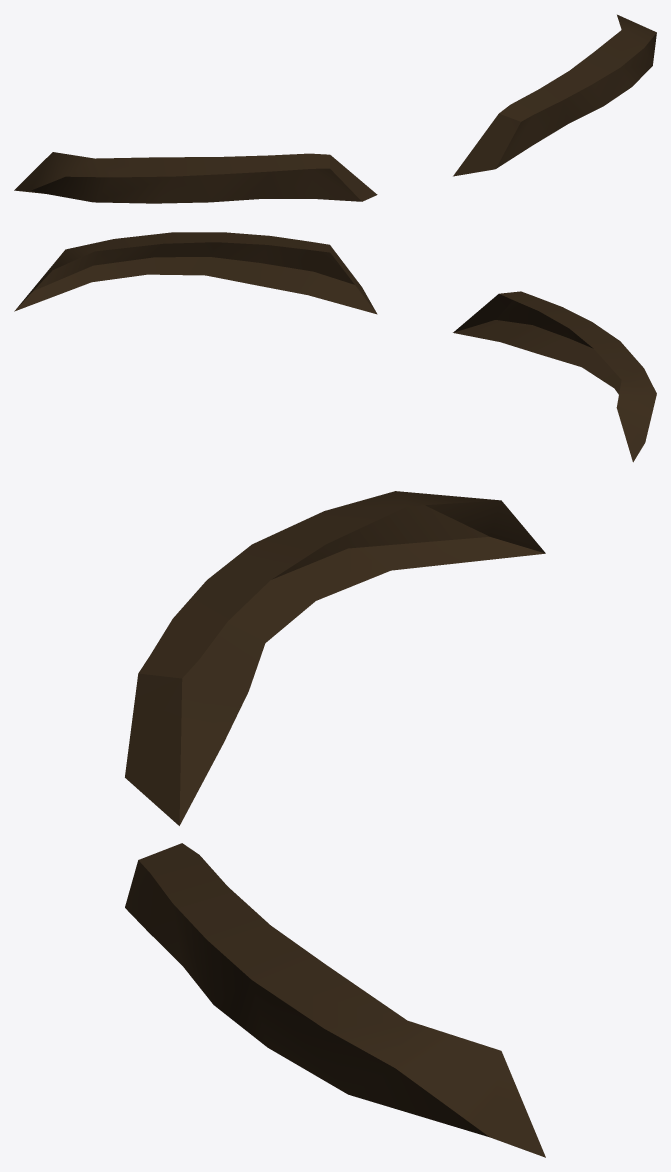
The model's file is Eyebrows_1.fbx.
3 renders of one model, top to bottom at view 1: azimuth 30°, elevation 25°; view 2: azimuth 150°, elevation 25°; view 3: azimuth 270°, elevation 25°, orthographic. The views are drawn at different scales.
Parts seen in each view (by area): view 1: man_in_suit.217; view 2: man_in_suit.217; view 3: man_in_suit.217.
Boxes of the visible parts, left/top/right/bottom form: man_in_suit.217: left=14, top=14, right=656, bottom=203; man_in_suit.217: left=14, top=232, right=656, bottom=462; man_in_suit.217: left=125, top=491, right=545, bottom=1157.
Bounding box in the file's own units: 12.4 × 1.05 × 3.65.
